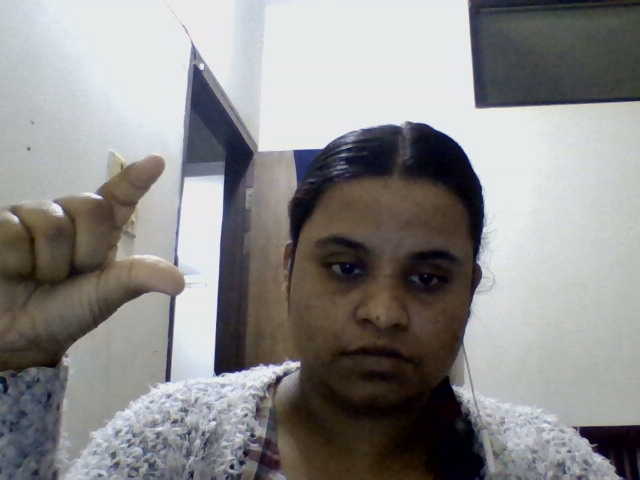No: (1, 146, 249, 352)
